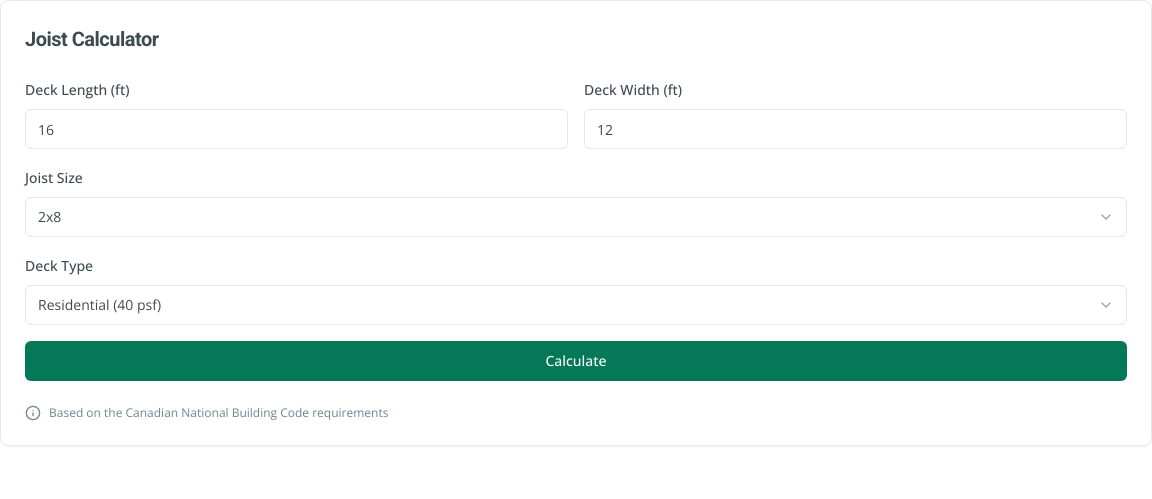
JoistCalculator › shows an error and no results when length is zero
The image size is (1152, 499).
Step 1. Replace the text in the number field labelled "Deck Length (ft)" with "0" → {"x": 296, "y": 129}, box [25, 109, 568, 149]
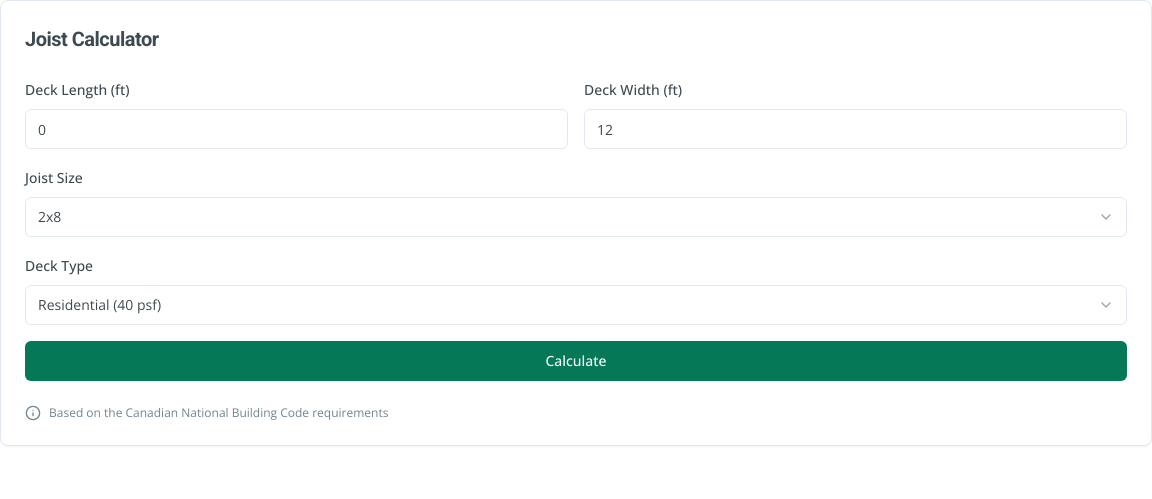
Step 2. Click the button "Calculate" → {"x": 576, "y": 361}, box [25, 341, 1127, 381]
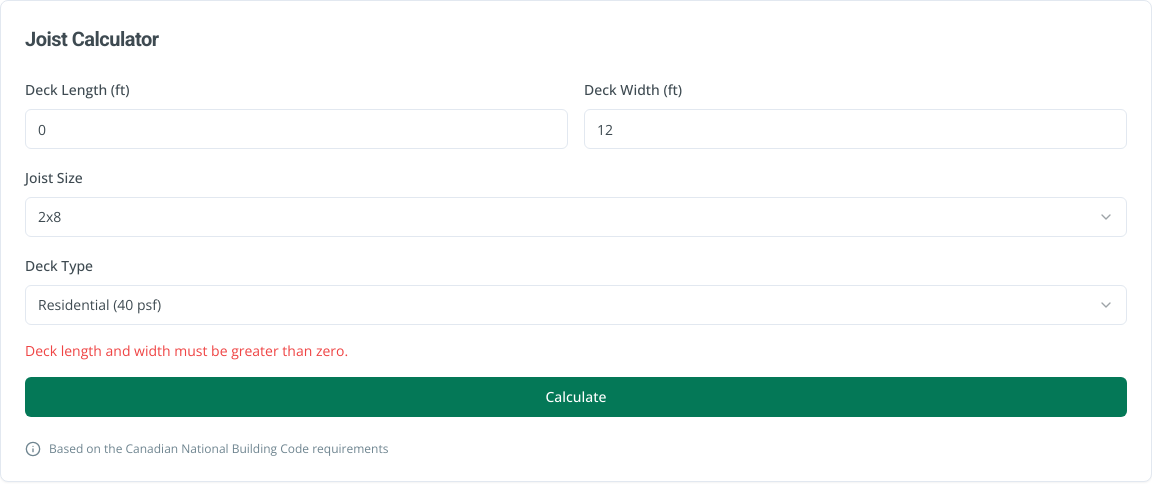
Result: the message shows "greater than zero" at [25, 341, 348, 360]
